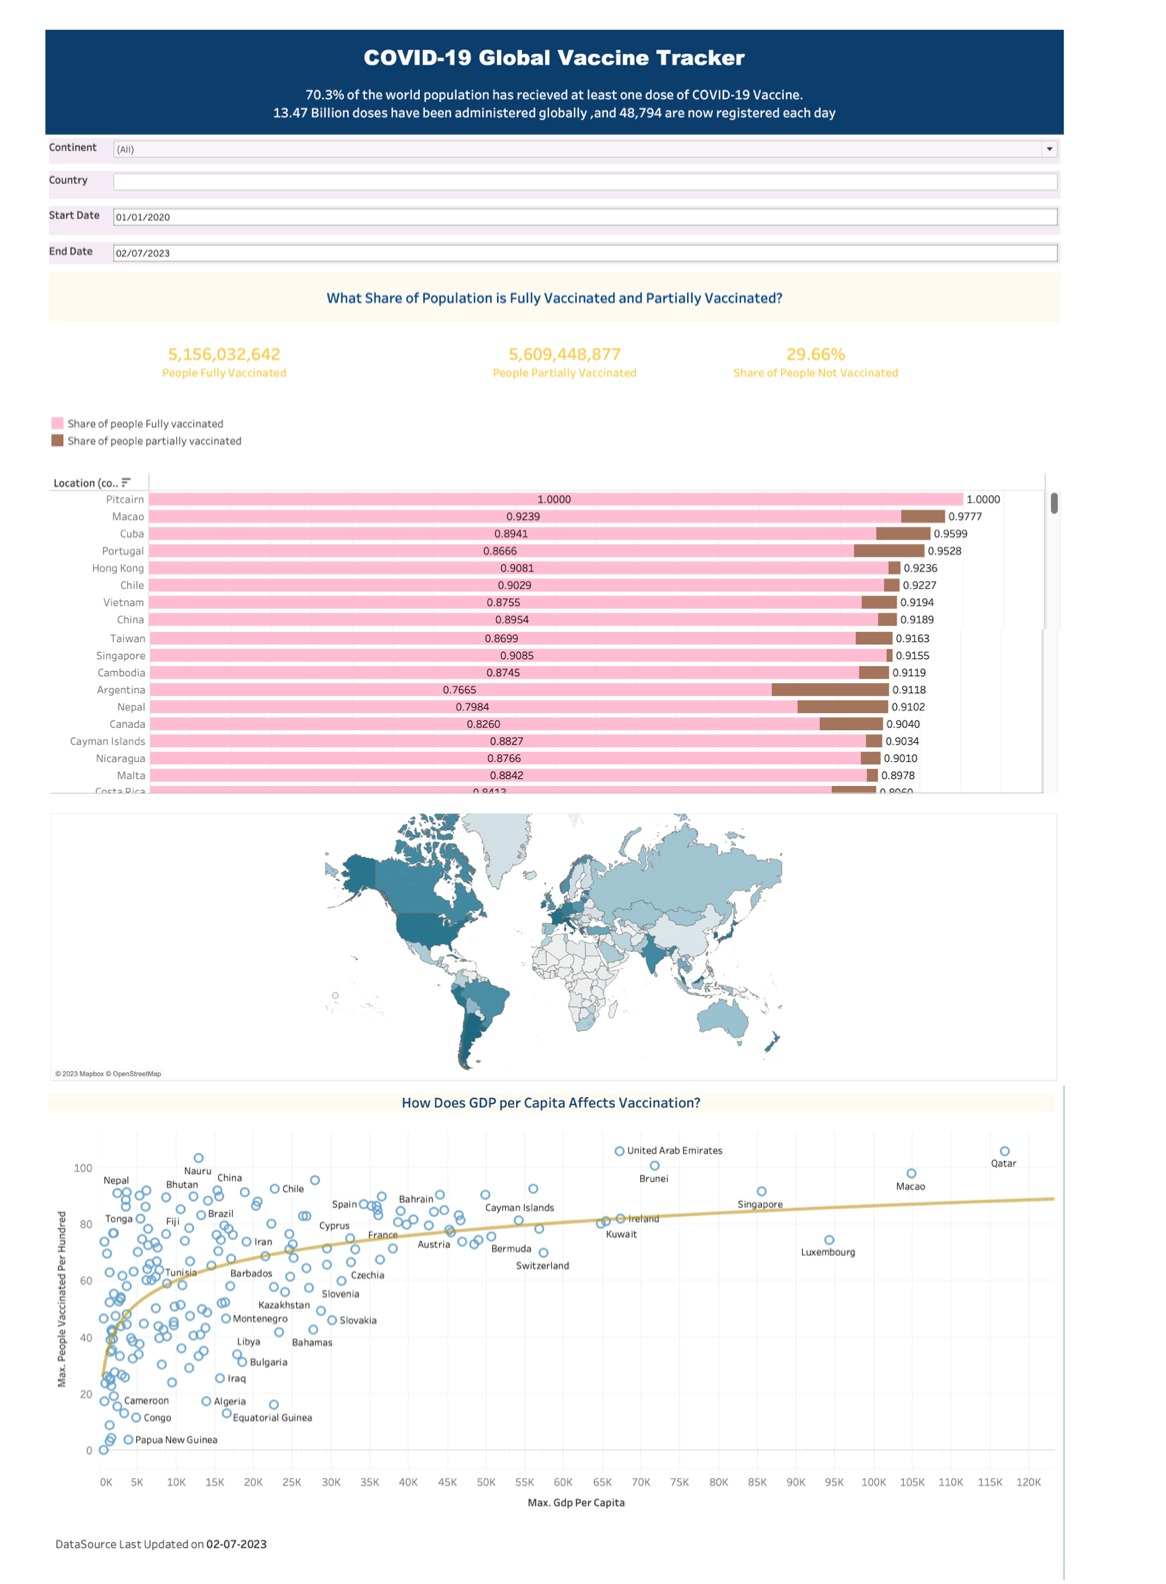

What the dashboard file says about the page in this screenshot:
{"tool":"tableau","page":{"name":"Dashboard 1","canvas":[1200,1810],"ordinal":0},"visuals":[{"type":"text","box":[8,8,1184,122]},{"type":"filter","title":"Partially vaccinated","param":"[federated.10nbix70ut3yd61edxnfr18fi4b7].[none:continent:nk]","box":[8,129.7,1184,38.2]},{"type":"filter","title":"Partially vaccinated","param":"[federated.10nbix70ut3yd61edxnfr18fi4b7].[none:Location (copy)_29572465177660579","box":[8,167.9,1184,41.2]},{"type":"parameter","param":"[Parameters].[Parameter 1]","box":[8,209.1,1184,42.2]},{"type":"parameter","param":"[Parameters].[Start Date (copy)_2957246518048587785]","box":[8,251.4,1184,34.2]},{"type":"text","box":[8,285.5,1184,67.5]},{"type":"worksheet","title":"Fully Vaccinated","mark":"Automatic","box":[8,353,416,99.5]},{"type":"worksheet","title":"Partially vaccinated","mark":"Automatic","box":[424,353,376,99]},{"type":"worksheet","title":"Not Vaccinated","mark":"Automatic","box":[800,353,392,99.5]},{"type":"legend","title":"partially vs fully for location","param":"[federated.10nbix70ut3yd61edxnfr18fi4b7].[:Measure Names]","box":[8,452.5,1184,53]},{"type":"worksheet","title":"partially vs fully for location","mark":"Bar","rows":["Location (copy)_2957246517766057987"],"cols":["Calculation_2957246517765300224","Share of people partially vaccinated (copy)_2957246517765943"],"box":[8,505.5,1184,395]},{"type":"worksheet","title":"Vaccinated per hundred","mark":"Automatic","box":[8,900.5,1184,336]},{"type":"text","box":[8,1236.5,1184,30]},{"type":"worksheet","title":"Vaccinated over GDP","mark":"Automatic","rows":["people_vaccinated_per_hundred"],"cols":["gdp_per_capita"],"box":[8,1266.5,1184,473]},{"type":"worksheet","title":"Datasource date","mark":"Automatic","box":[8,1739.5,1184,43]}]}

Visuals, with their boxes on the page's 1200x1810 design canvas (x1, y1, x2, y2). These are canvas units, not pixel positions in the 1166x1584 screenshot, which may show the page scaled, cropped or inside an application window:
text: 8:8:1192:130
"Partially vaccinated" filter: 8:130:1192:168
"Partially vaccinated" filter: 8:168:1192:209
parameter: 8:209:1192:251
parameter: 8:251:1192:286
text: 8:286:1192:353
"Fully Vaccinated" worksheet: 8:353:424:452
"Partially vaccinated" worksheet: 424:353:800:452
"Not Vaccinated" worksheet: 800:353:1192:452
"partially vs fully for location" legend: 8:452:1192:506
"partially vs fully for location" worksheet (Bar marks): 8:506:1192:900
"Vaccinated per hundred" worksheet: 8:900:1192:1236
text: 8:1236:1192:1266
"Vaccinated over GDP" worksheet: 8:1266:1192:1740
"Datasource date" worksheet: 8:1740:1192:1782
